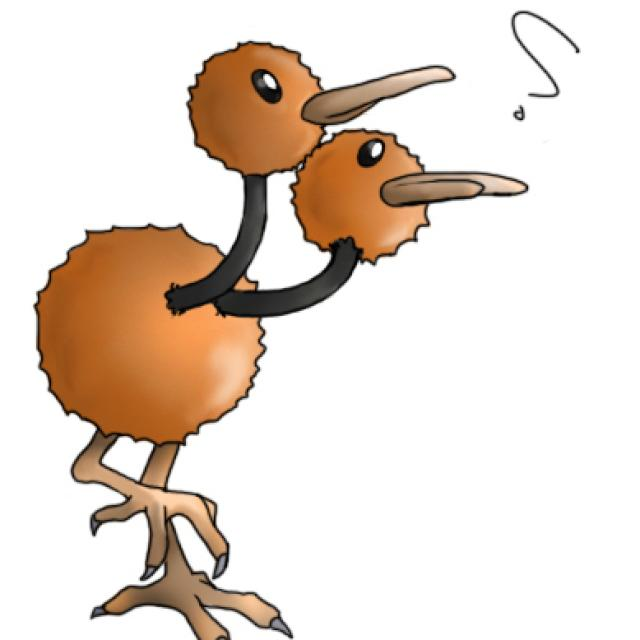Doduo: (32, 41, 460, 612)
